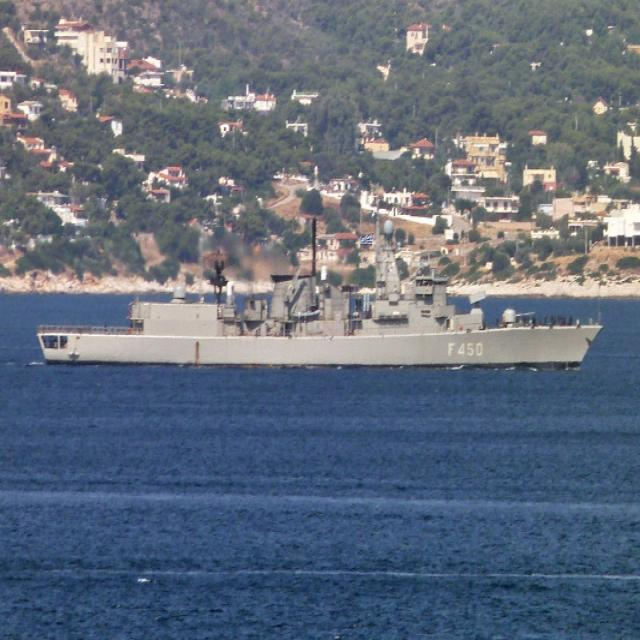Fragata: (39, 191, 606, 372)
